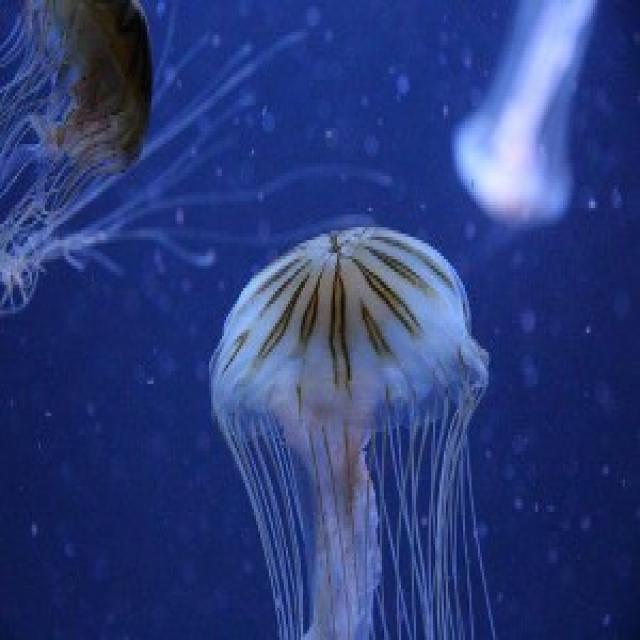Jellyfish: (200, 220, 516, 640), (0, 0, 168, 269)
